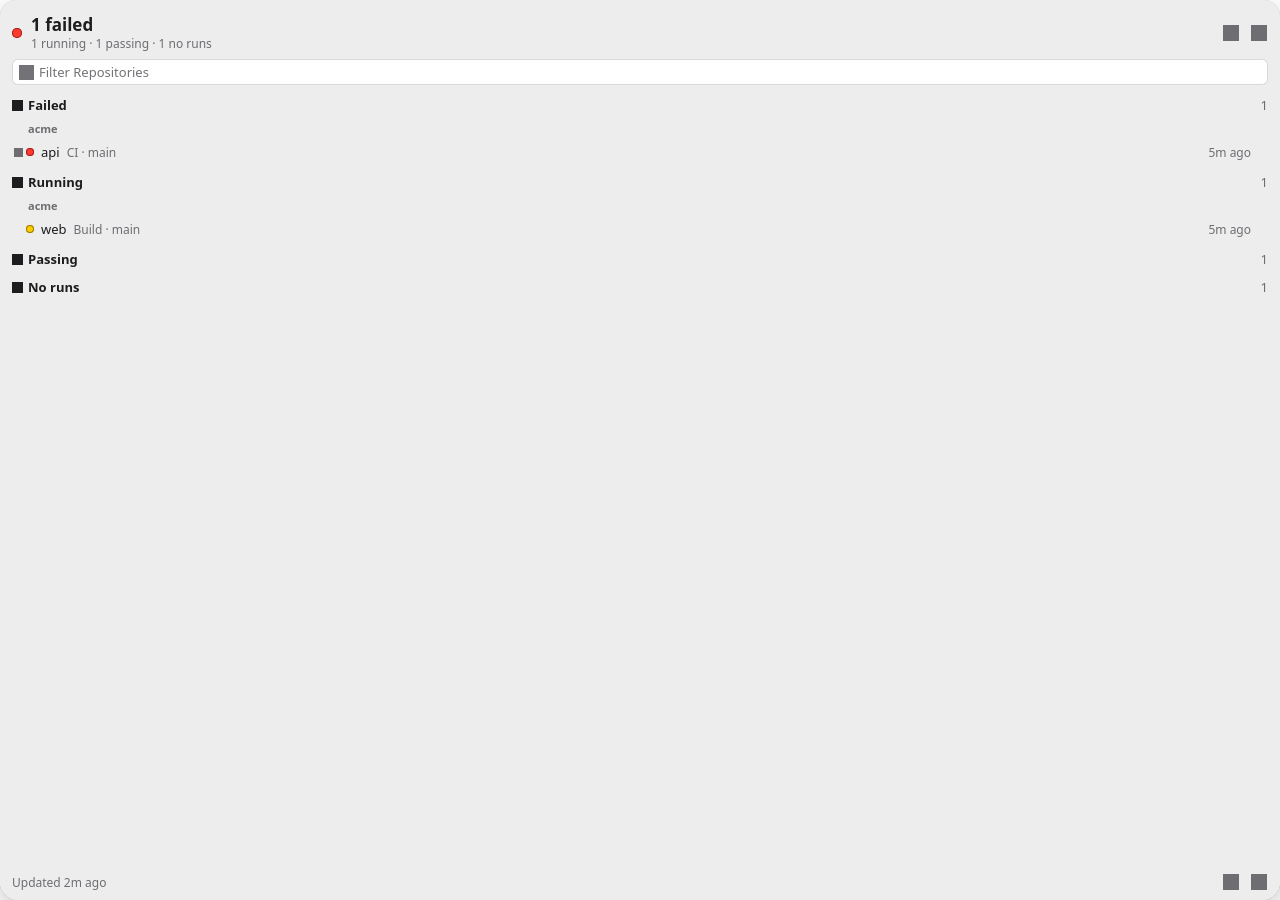
Popup header actions › reports a settings failure
Click the button named "Settings…". click: (1231, 882)
box: left=1218, top=870, right=1244, bottom=894
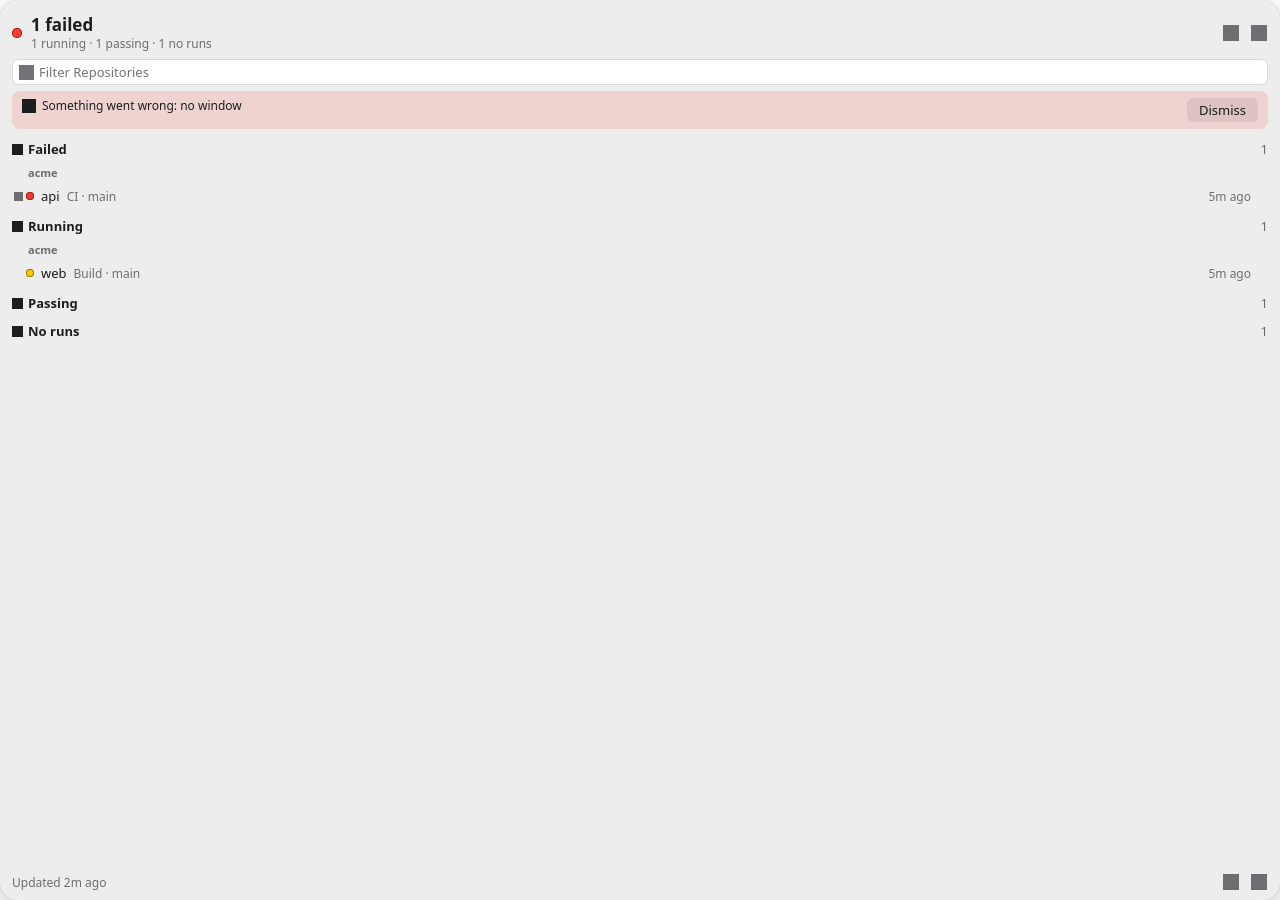
Expected: the message shows "no window", left=42, top=97, right=242, bottom=114
